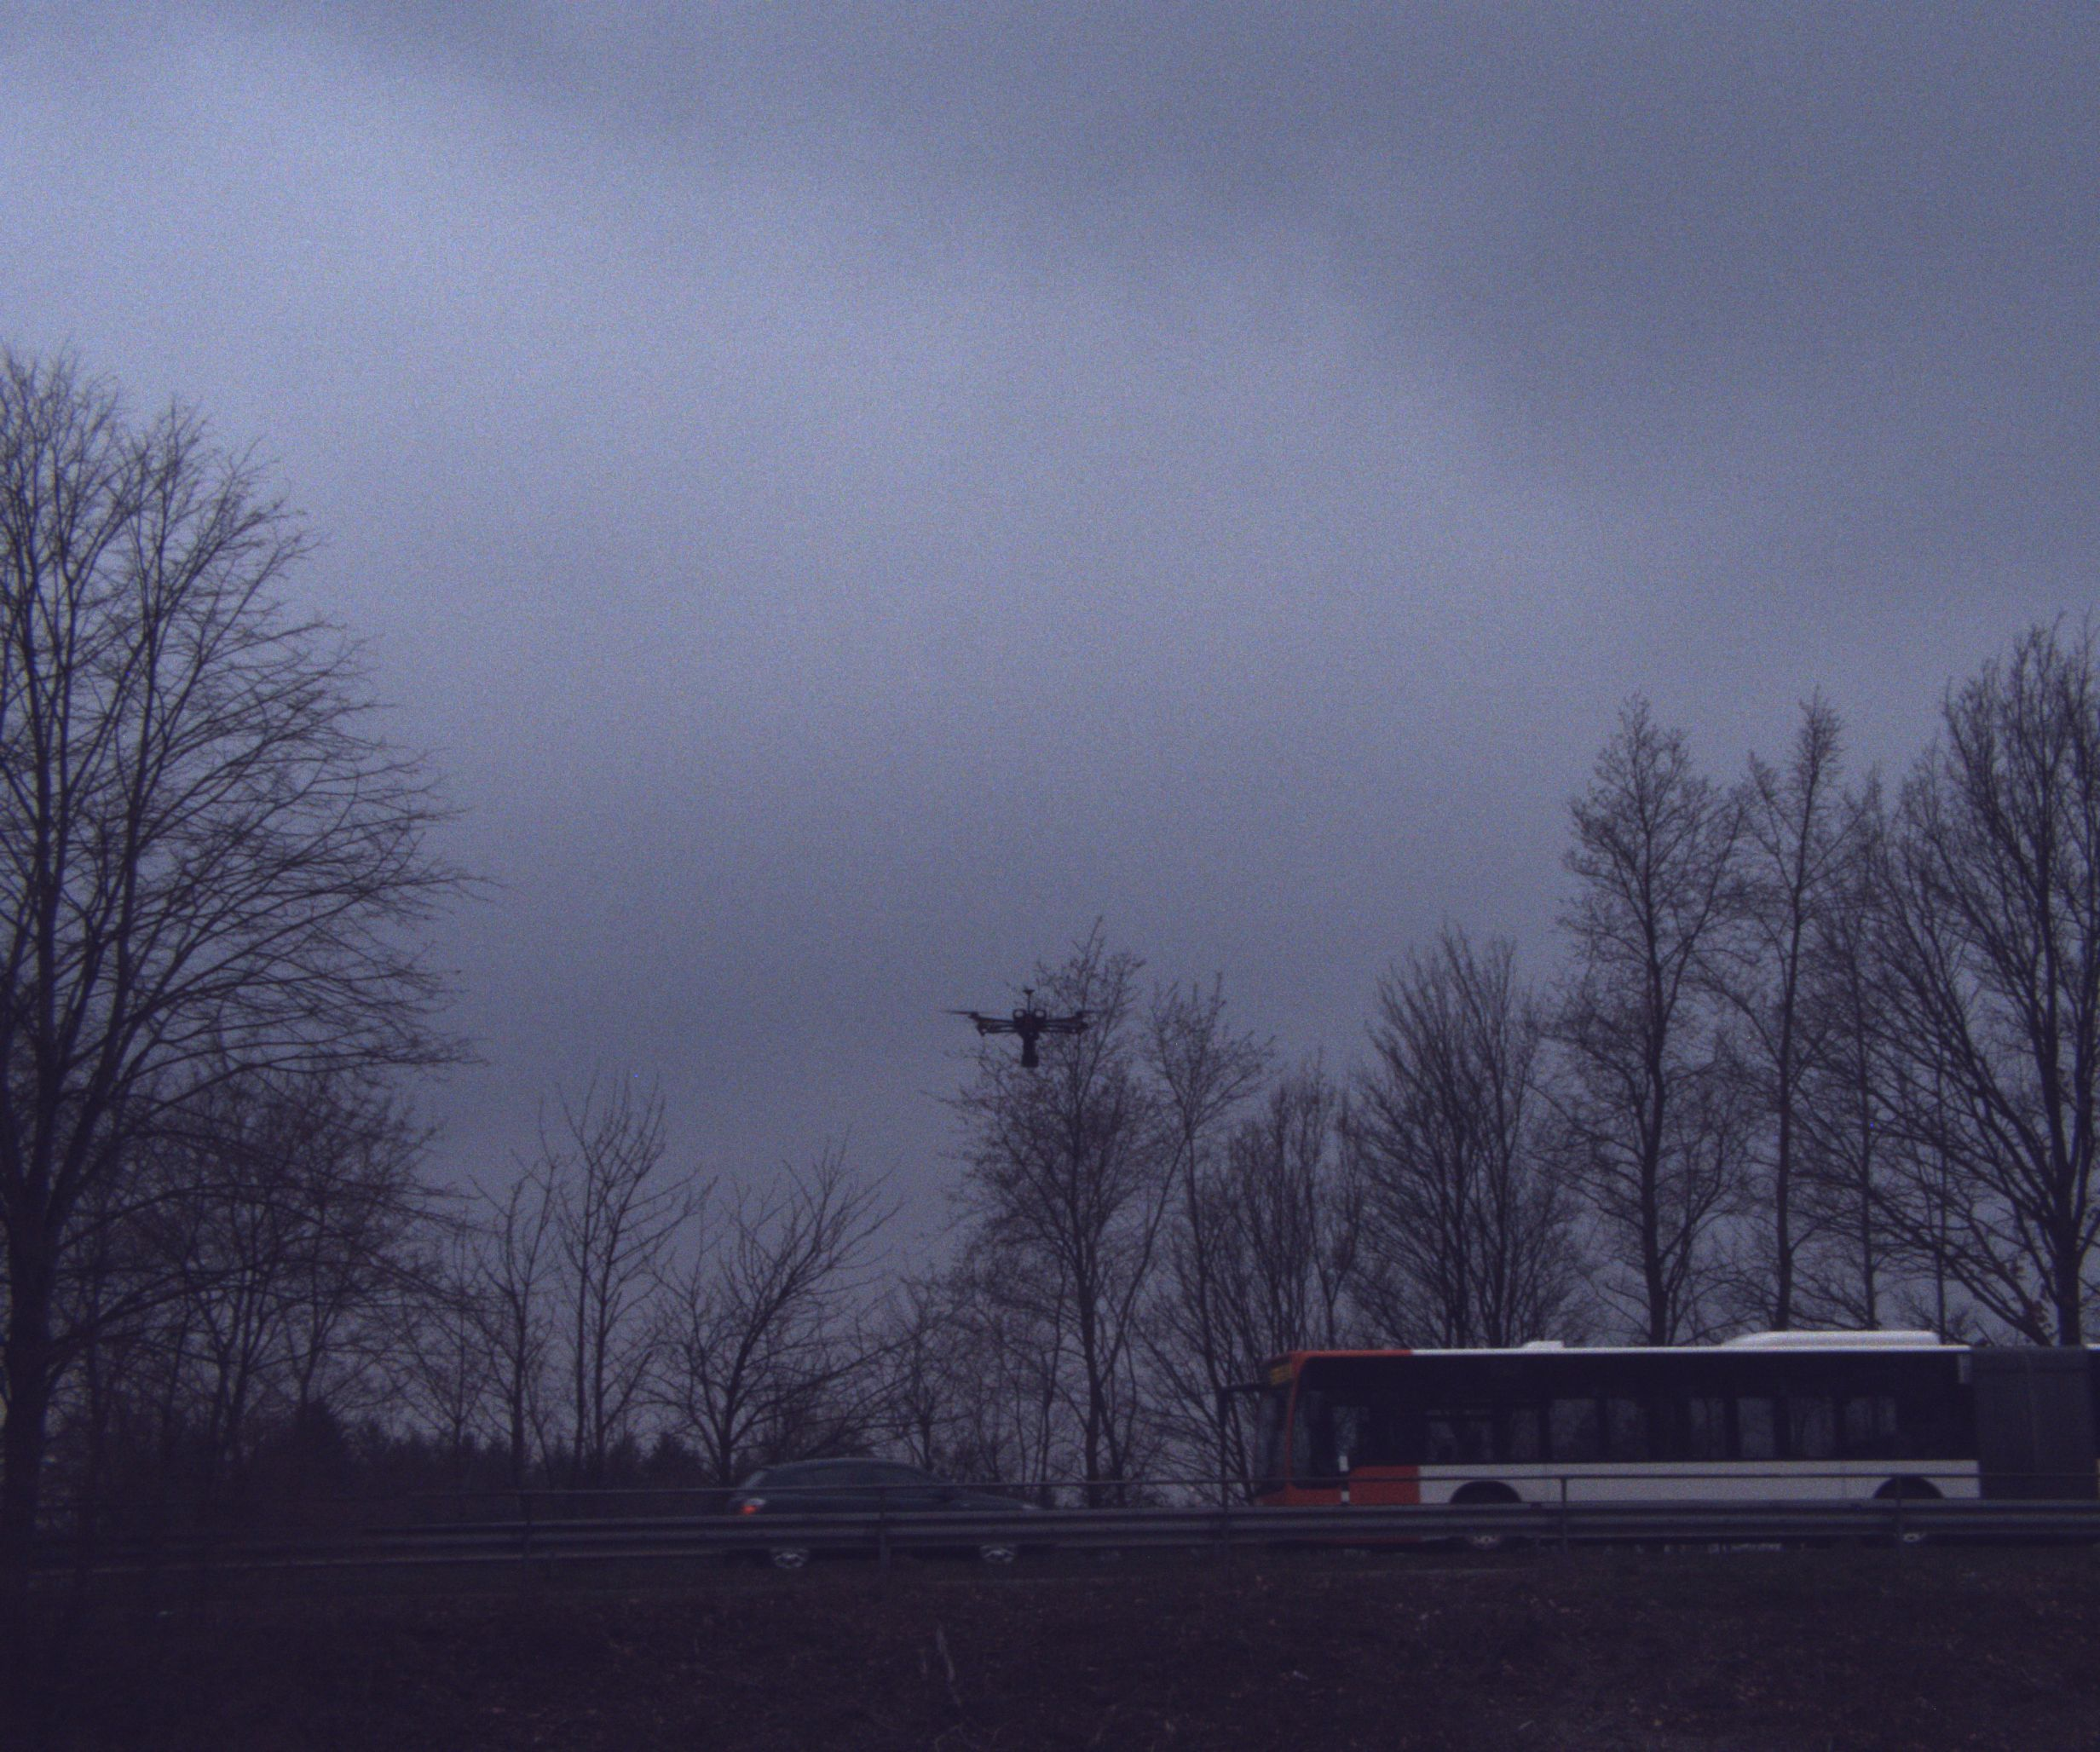Drohne: (926, 961, 1205, 1102)
